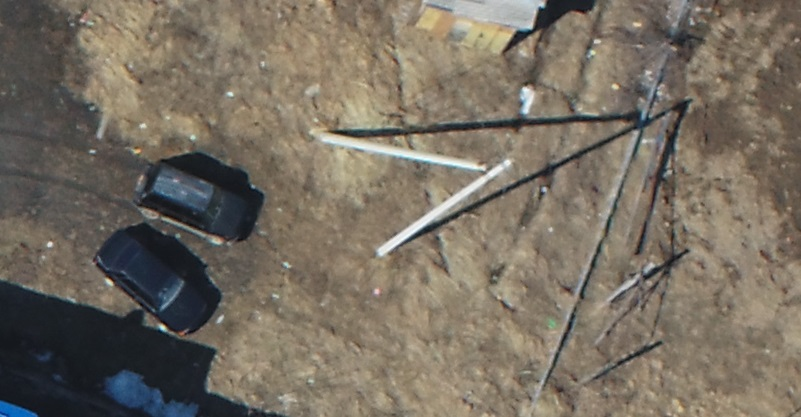opora: (312, 104, 522, 258)
